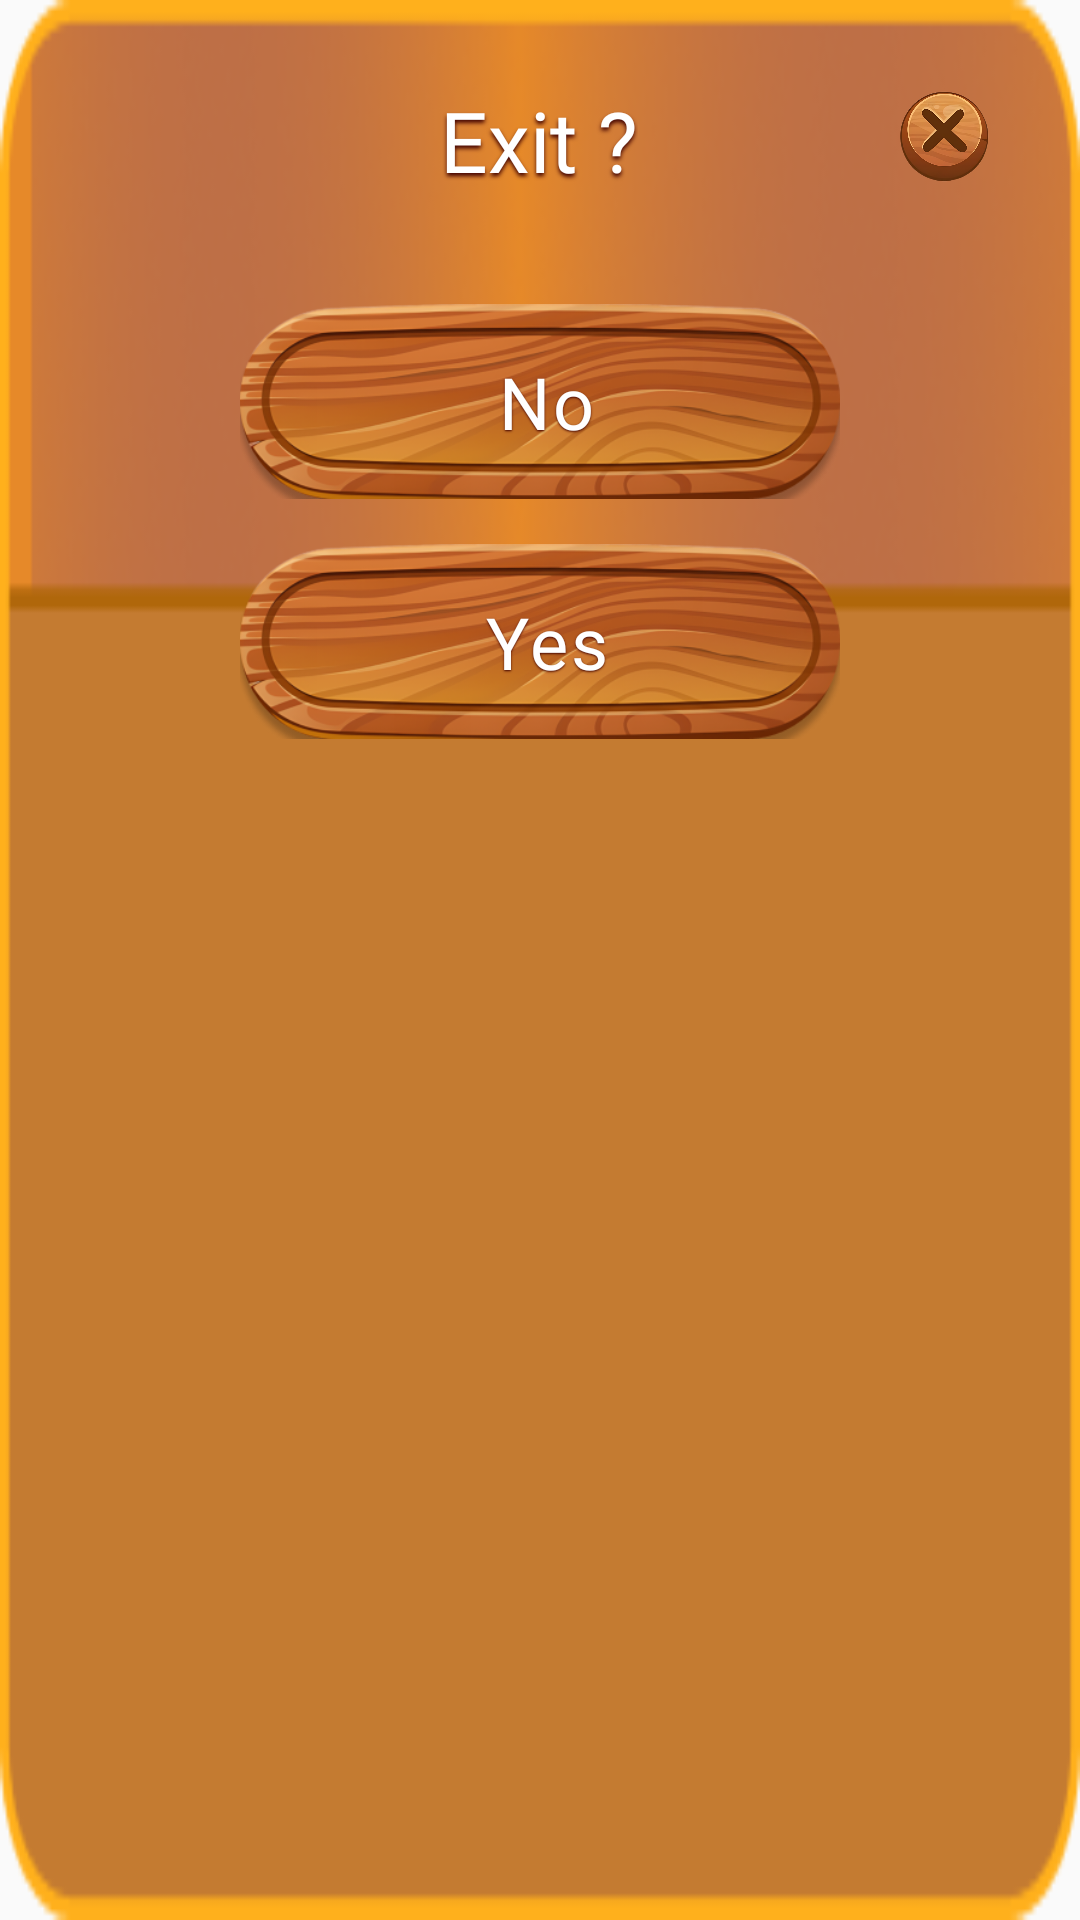

Icons on this 1080 × 1920 Android screen, each with its box as [x1=x1, y1=y1, x2=x2, y2=y2]:
popup close: [x1=900, y1=92, x2=988, y2=181]
